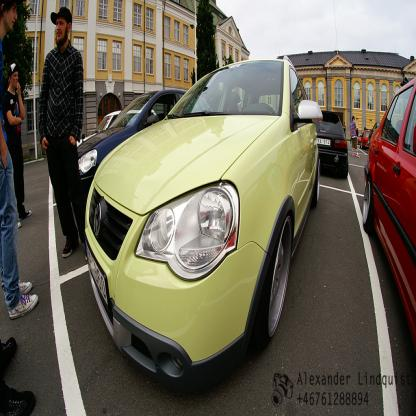Car: (87, 57, 323, 382)
